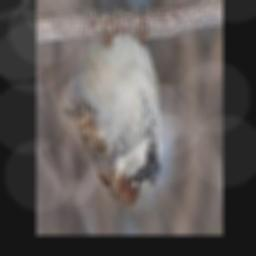Sparrow: (61, 4, 162, 214)
